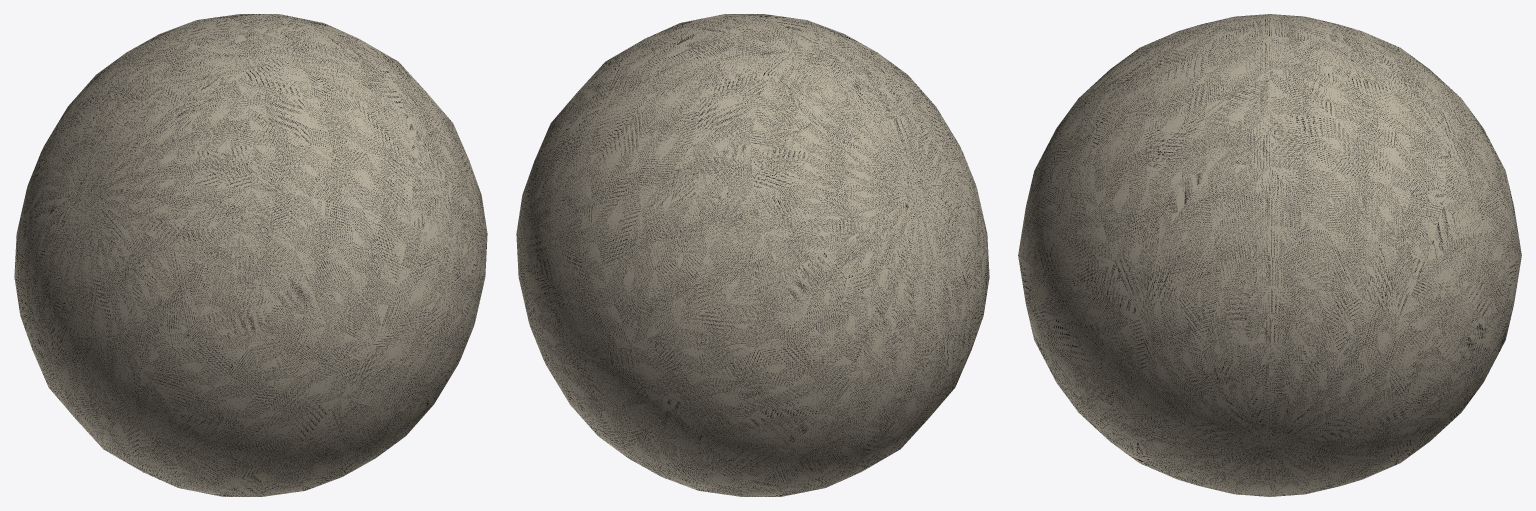
Rendered from original-33.obj.
3 views of the same model, side by side, from view 1: azimuth 30°, elevation 25°; view 2: azimuth 150°, elevation 25°; view 3: azimuth 270°, elevation 25° (orthographic). The views are drawn at different scales.
Visible parts, largest first — view 1: mesh6/mesh6-geometry#mesh6-geometry; view 2: mesh6/mesh6-geometry#mesh6-geometry; view 3: mesh6/mesh6-geometry#mesh6-geometry.
Boxes of the visible parts, x1,y1,x2,y2 form: mesh6/mesh6-geometry#mesh6-geometry: [14, 14, 487, 496]; mesh6/mesh6-geometry#mesh6-geometry: [516, 14, 989, 496]; mesh6/mesh6-geometry#mesh6-geometry: [1018, 14, 1521, 496].
Size of the model in its own units: 0.136 by 0.1403 by 0.1421.
